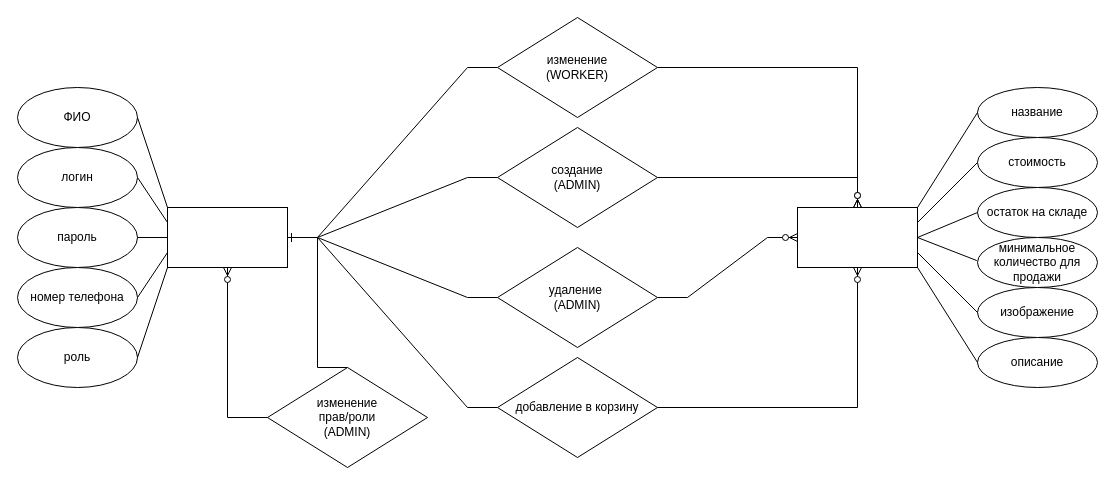
The diagram is 1115 pixels wide and 485 high, and some of its shapes have lost their labels. Each missing label, with the centre of its shape:
пользователь: point (227, 237)
товар: point (857, 237)
